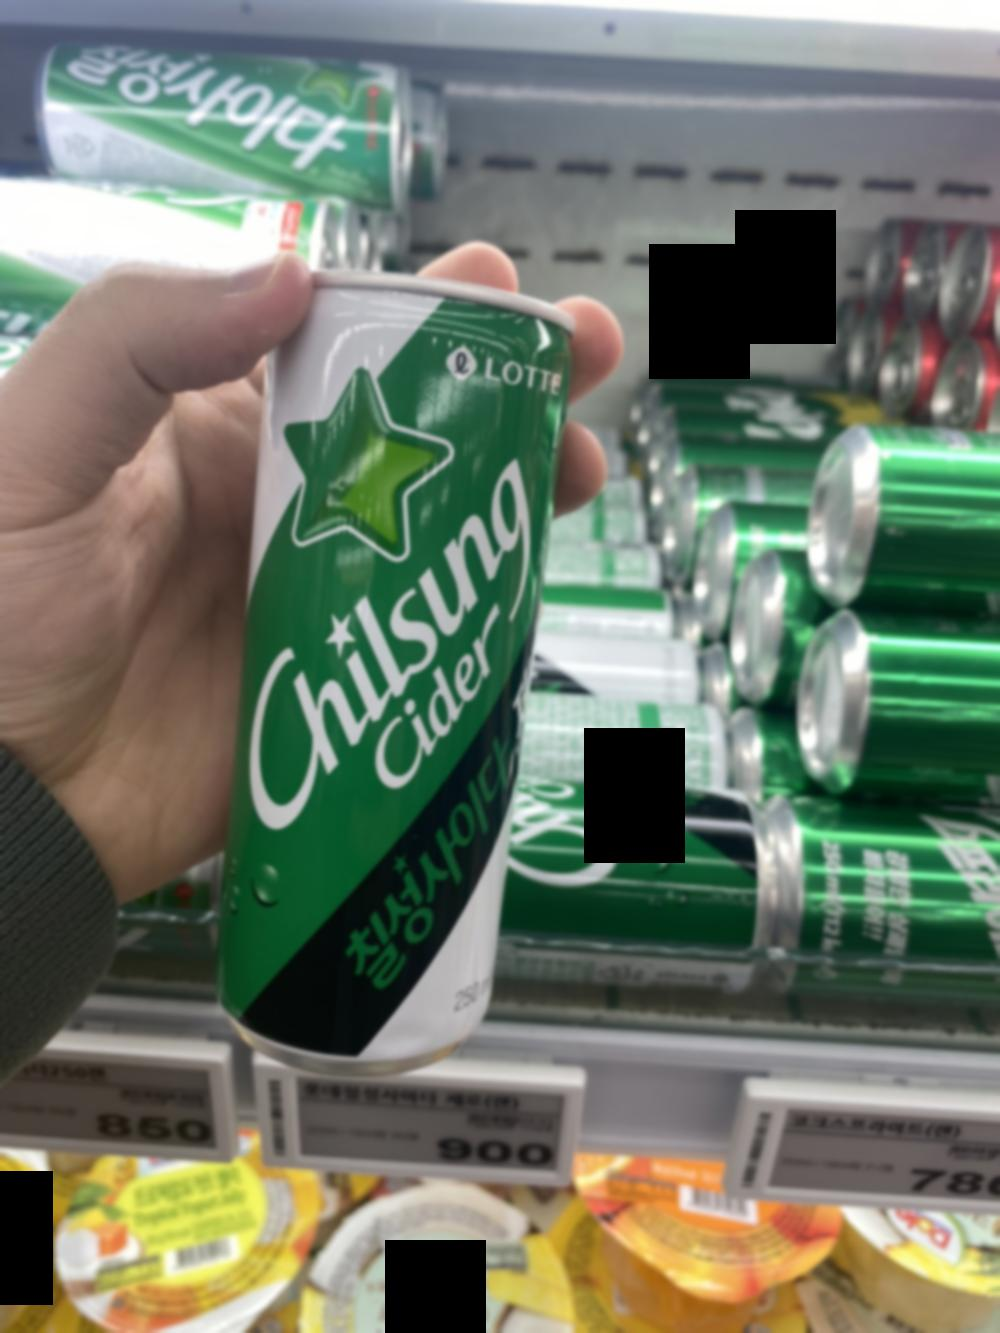chilsungcider_zero: (241, 277, 565, 1059)
